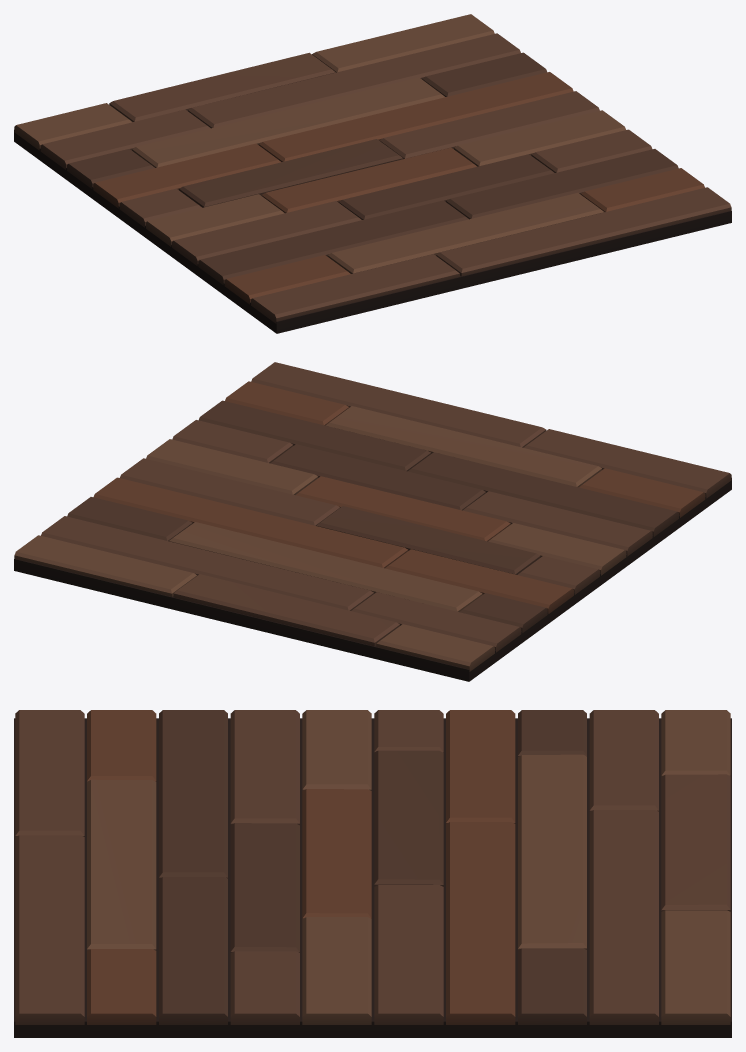
Rendered from floor_planks_dark_large_A.glb.
The picture shows the model from 3 angles, top to bottom: view 1: azimuth 30°, elevation 25°; view 2: azimuth 150°, elevation 25°; view 3: azimuth 270°, elevation 25°; orthographic projection. The views are drawn at different scales.
Visible parts, largest first — view 1: Item; view 2: Item; view 3: Item.
Part boxes in pixels (box(x1,y1,x2,y2)): Item: box(14, 14, 731, 333); Item: box(14, 362, 731, 681); Item: box(14, 710, 731, 1037).
Size of the model in its own units: 4 by 0.1579 by 4.
1 material, 1 textured.
